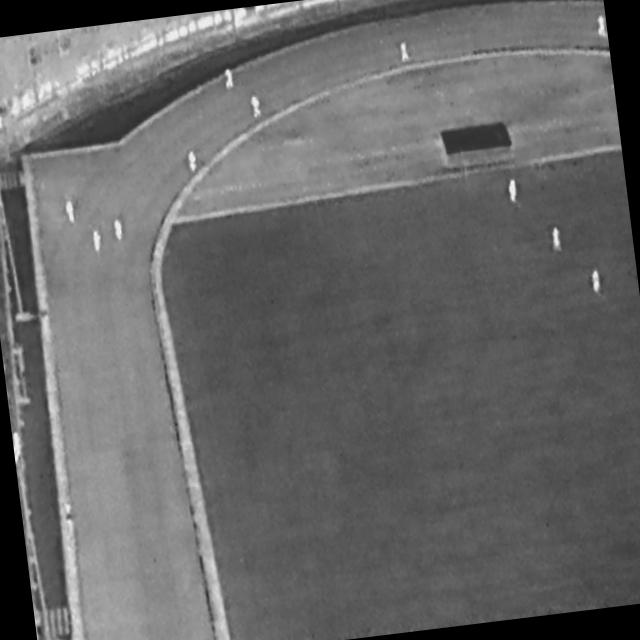person: (91, 229, 104, 255), (250, 96, 263, 121), (64, 508, 76, 534), (552, 228, 564, 254), (66, 199, 77, 225), (508, 179, 519, 205), (113, 219, 125, 242), (597, 14, 608, 39), (187, 150, 198, 173), (592, 269, 602, 294), (400, 42, 411, 63), (225, 69, 235, 91)
